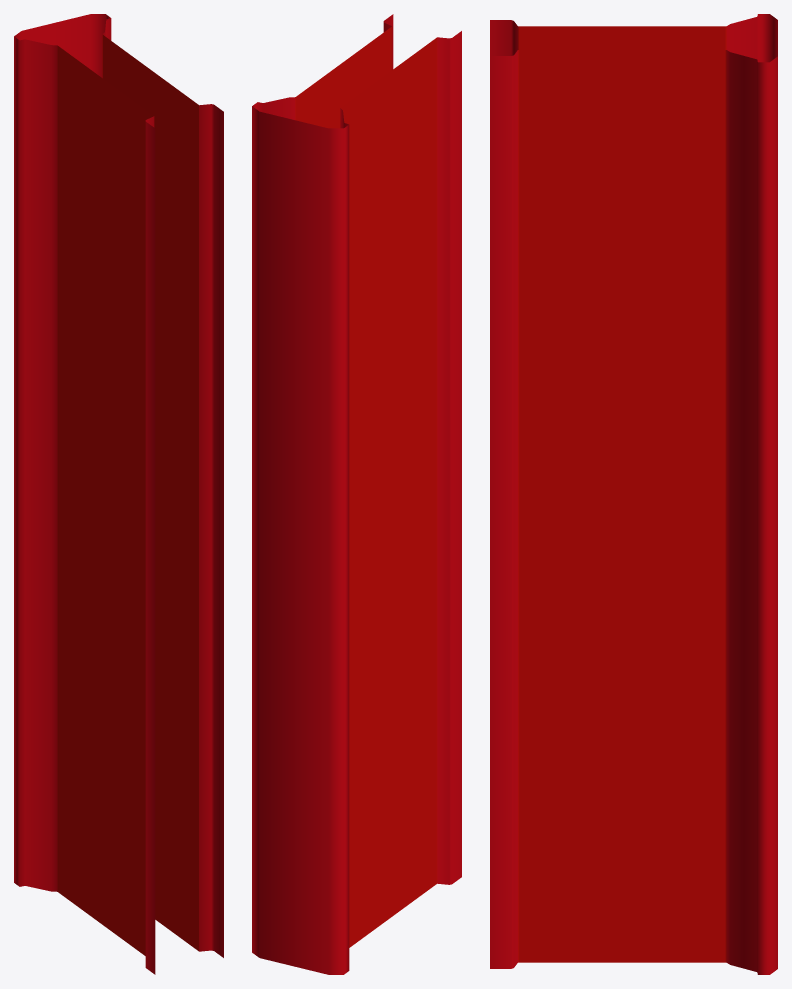
Rendered from SM_Park_wall_B_3.FBX.
The picture shows the model from 3 angles, left to right: view 1: azimuth 30°, elevation 25°; view 2: azimuth 150°, elevation 25°; view 3: azimuth 270°, elevation 25°; orthographic projection. The views are drawn at different scales.
Visible parts, largest first — view 1: SM_Park_wall_B_3_LOD0; view 2: SM_Park_wall_B_3_LOD0; view 3: SM_Park_wall_B_3_LOD0.
Part boxes in pixels (x1,y1,x2,y2): SM_Park_wall_B_3_LOD0: (14, 14, 223, 974); SM_Park_wall_B_3_LOD0: (252, 14, 461, 974); SM_Park_wall_B_3_LOD0: (490, 14, 777, 974).
Size of what is drawn, in the model's own units: 40.76 by 103 by 360.
